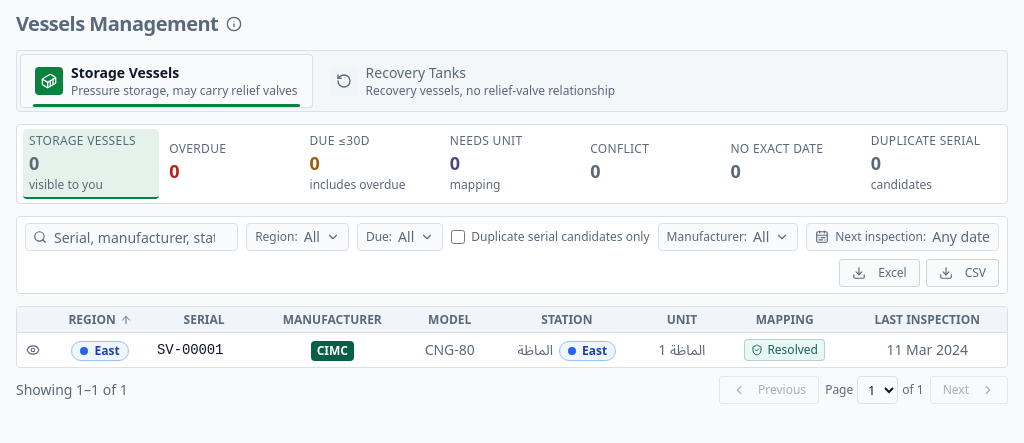
Test: Server-side query › the summary counts follow the filters (owner request 2026-09-28)
The image size is (1024, 443).
Expected: the text "SV-00001" is shown, left=157, top=340, right=223, bottom=360
In the search field named "search storage vessels": (132, 237) left=25, top=223, right=238, bottom=251, type "SV"
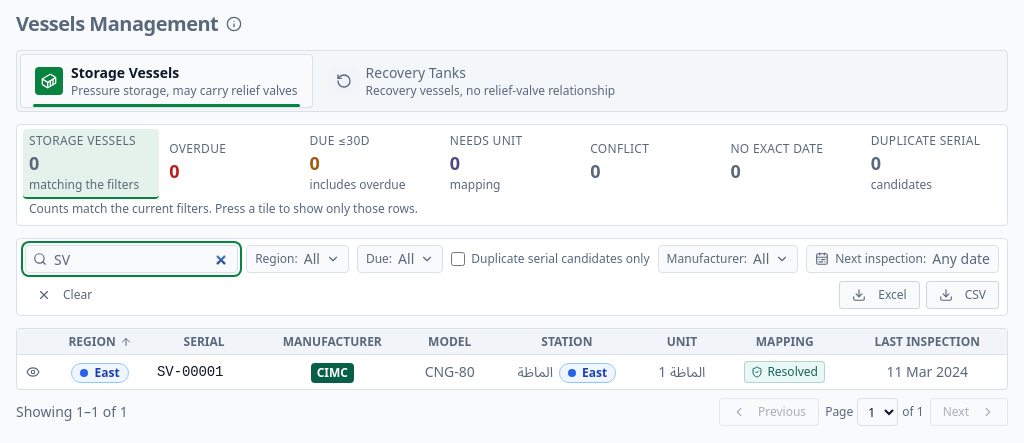
Expected: the text "Counts match the current filters." is shown, left=29, top=200, right=418, bottom=217
